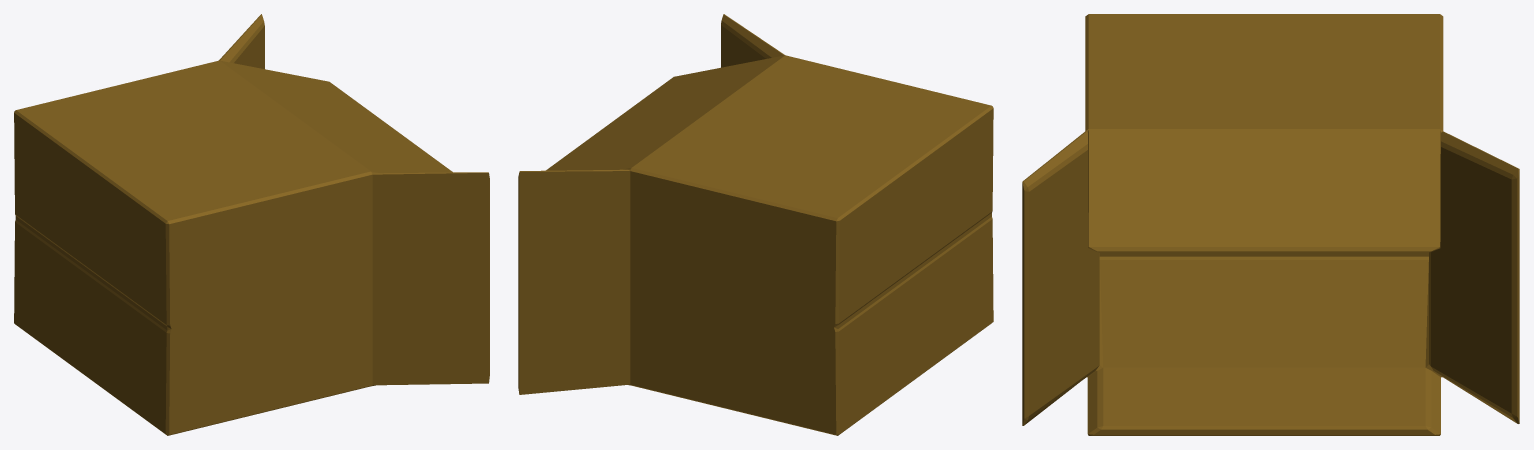
Rendered from Cardboard.fbx.
The picture shows the model from 3 angles, left to right: view 1: azimuth 30°, elevation 25°; view 2: azimuth 150°, elevation 25°; view 3: azimuth 270°, elevation 25°; orthographic projection. The views are drawn at different scales.
Visible parts, largest first — view 1: Cube.001; view 2: Cube.001; view 3: Cube.001.
Boxes of the visible parts, box(x1,y1,x2,y2) form: Cube.001: box(14, 14, 489, 435); Cube.001: box(518, 14, 993, 435); Cube.001: box(1022, 14, 1519, 435).
Size of the model in its own units: 44.05 by 29.74 by 51.66.
